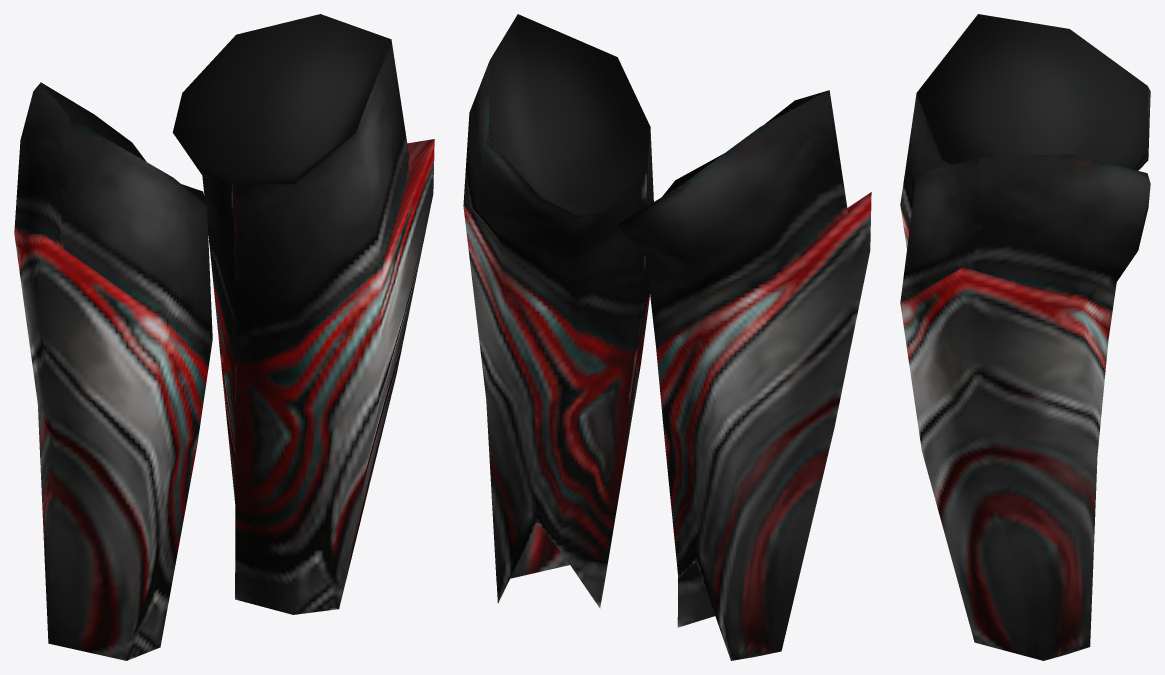
The model's file is nvcike_6_hutui.FBX.
3 renders of one model, left to right at view 1: azimuth 30°, elevation 25°; view 2: azimuth 150°, elevation 25°; view 3: azimuth 270°, elevation 25°, orthographic. The views are drawn at different scales.
Parts seen in each view (by area): view 1: Mesh001; view 2: Mesh001; view 3: Mesh001.
Boxes of the visible parts, <box> form: Mesh001: <box>14,14,434,660</box>; Mesh001: <box>463,14,871,660</box>; Mesh001: <box>900,14,1150,660</box>.
Size of the model in its own units: 39.73 by 53.5 by 23.77.
1 material, 1 textured.
